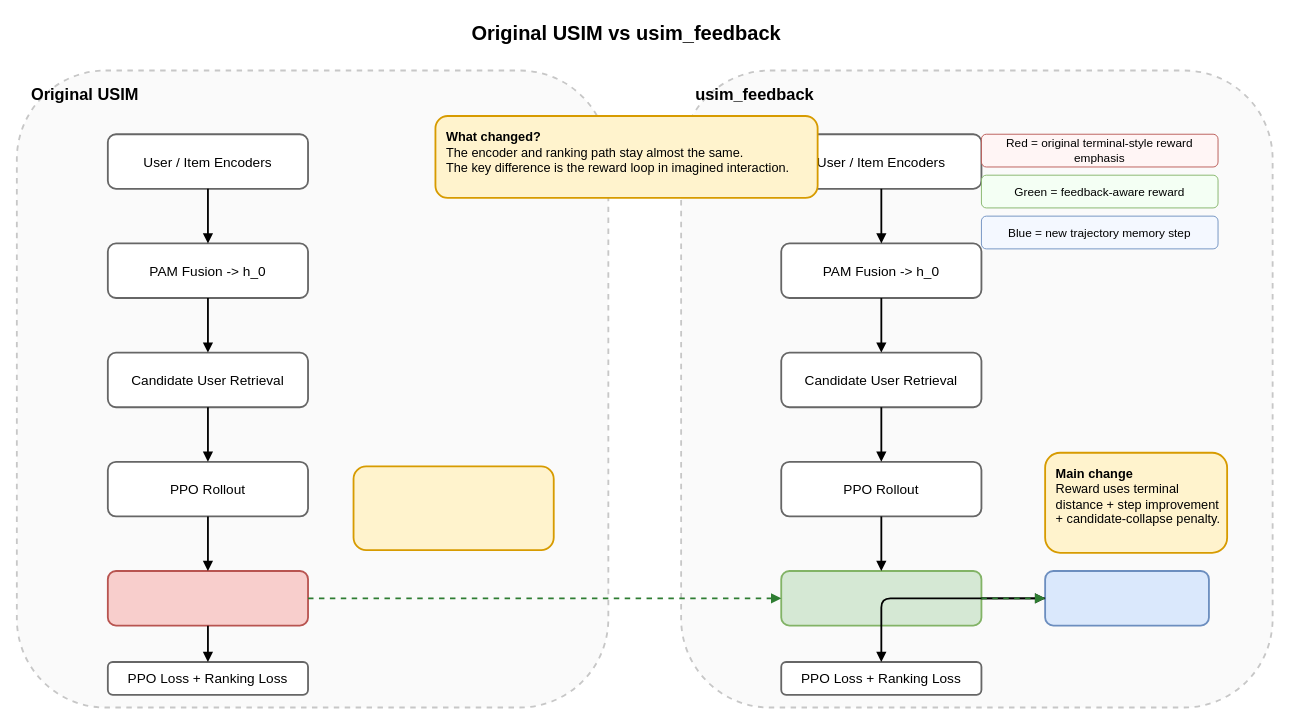
This 1289x723 diagram has some shape labels left out. Here are the shapes that lost their labels. From the top down, the centre of each, then its label:
At (x=453, y=508): "Main characteristic Reward mainly depends on final rollout state.".
At (x=207, y=598): "MSE-like terminal signal".
At (x=881, y=598): "Feedback Reward".
At (x=1126, y=598): "Trajectory Buffer".
